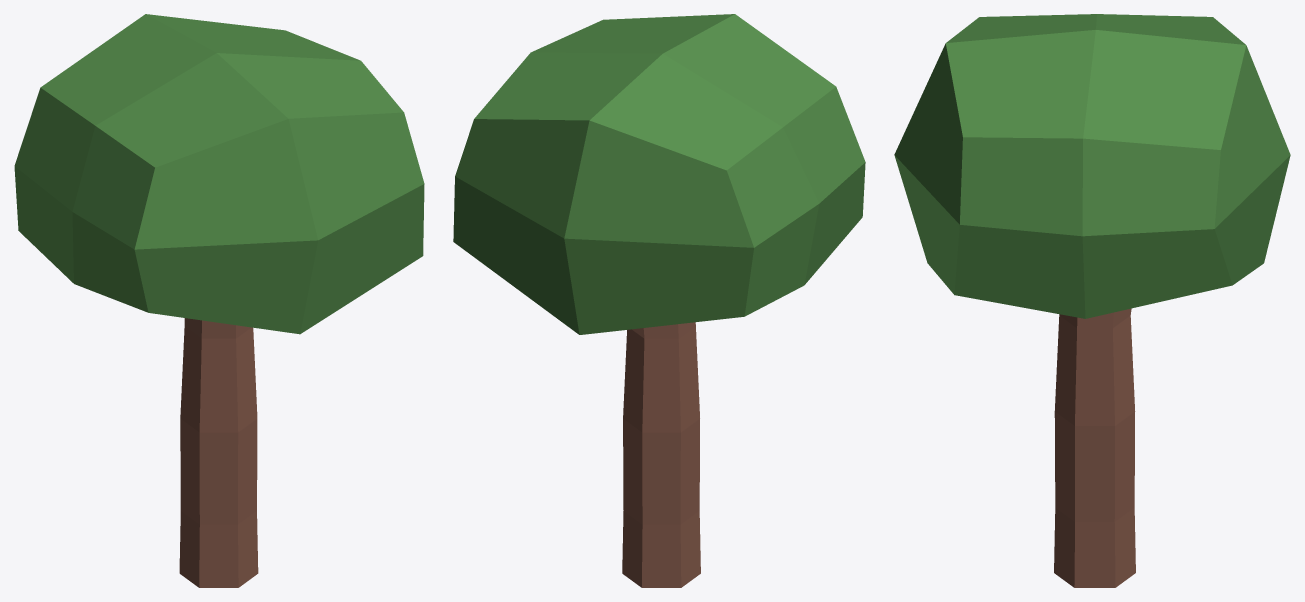
Rendered from arbol.glb.
3 renders of one model, left to right at view 1: azimuth 30°, elevation 25°; view 2: azimuth 150°, elevation 25°; view 3: azimuth 270°, elevation 25°, orthographic. The views are drawn at different scales.
Visible parts, largest first — view 1: arbol; view 2: arbol; view 3: arbol.
Part boxes in pixels (bbox=[...]): arbol: bbox=[14, 14, 424, 587]; arbol: bbox=[453, 14, 865, 587]; arbol: bbox=[894, 14, 1290, 587].
Size of what is drawn, in the model's own units: 4.62 by 7.29 by 4.83.
